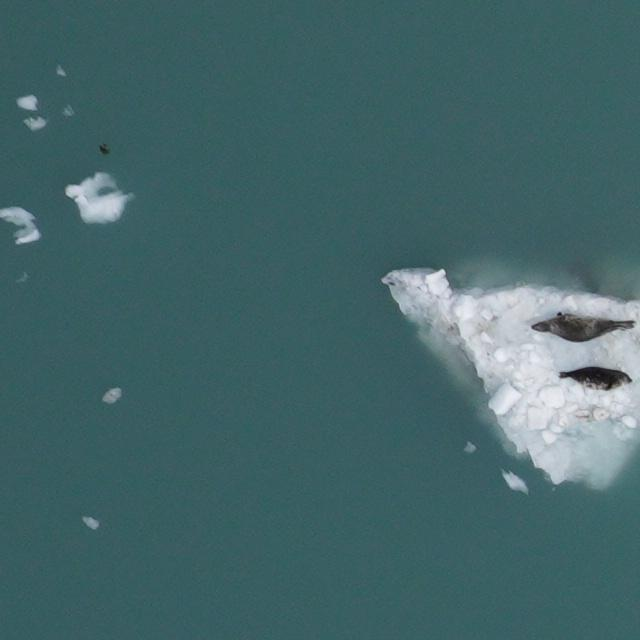seal: (529, 307, 634, 349), (559, 361, 632, 393)
